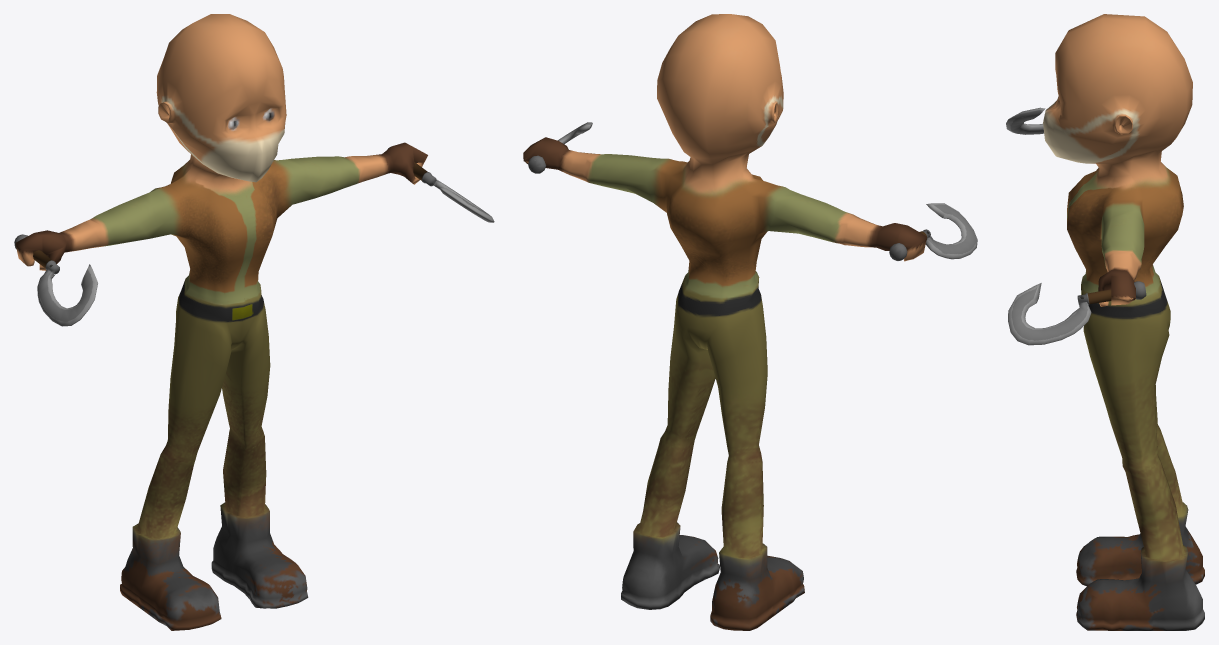
File: Mower.fbx
3 views of the same model, side by side, from view 1: azimuth 30°, elevation 25°; view 2: azimuth 150°, elevation 25°; view 3: azimuth 270°, elevation 25° (orthographic). The views are drawn at different scales.
Parts seen in each view (by area): view 1: polySurface1; view 2: polySurface1; view 3: polySurface1.
Boxes of the visible parts, <box> form: polySurface1: <box>14,14,494,630</box>; polySurface1: <box>523,14,977,630</box>; polySurface1: <box>1006,14,1204,630</box>.
Size of the model in its own units: 15.31 by 19.56 by 6.08.
